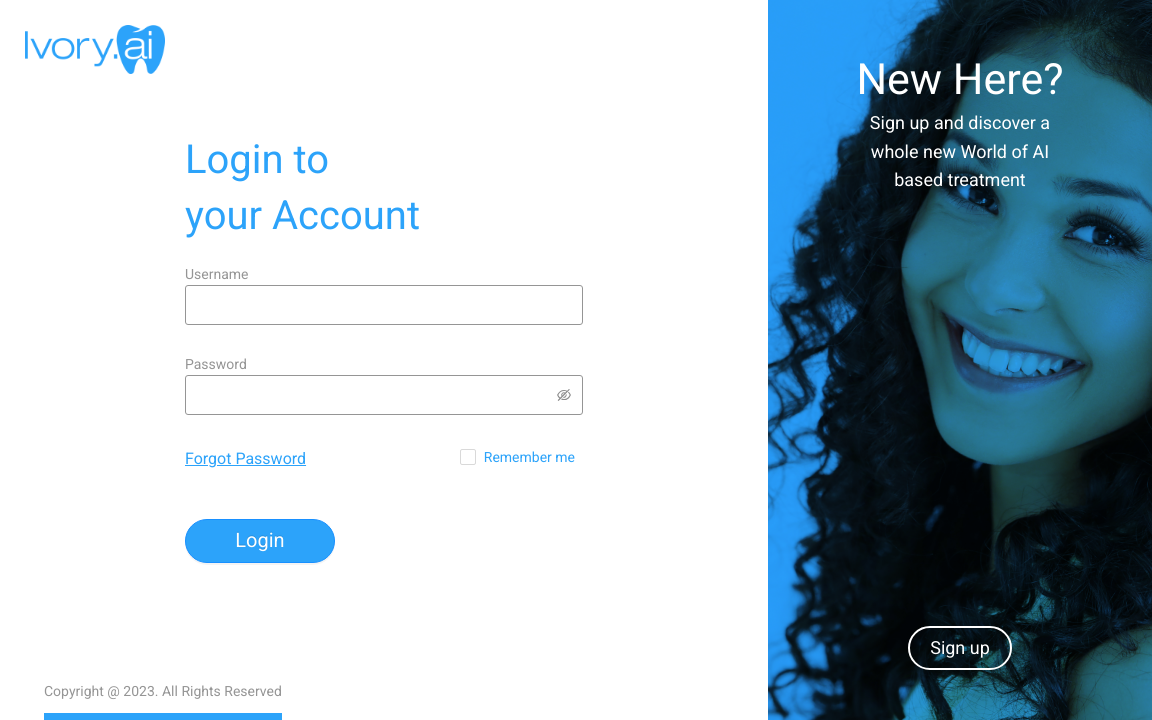
Test: Writing test case for Patient Login Page › 20, test case for error message when user enter less characters in userName Input
The width and height of the screenshot is (1152, 720).
Type "Bh" into the field with test id "user-name-input". click: point(384, 305)
box: top-left (185, 285), bottom-right (583, 325)
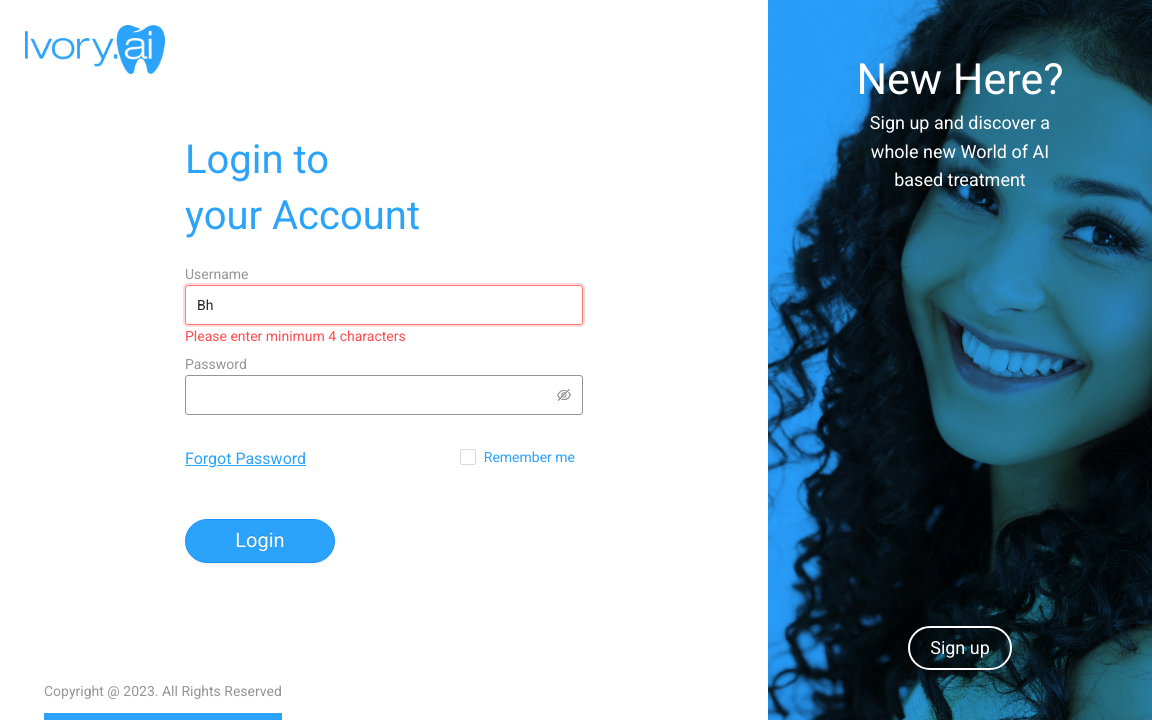
Expected: the text "Please enter minimum 4 characters" is shown, top-left (185, 328), bottom-right (406, 344)
